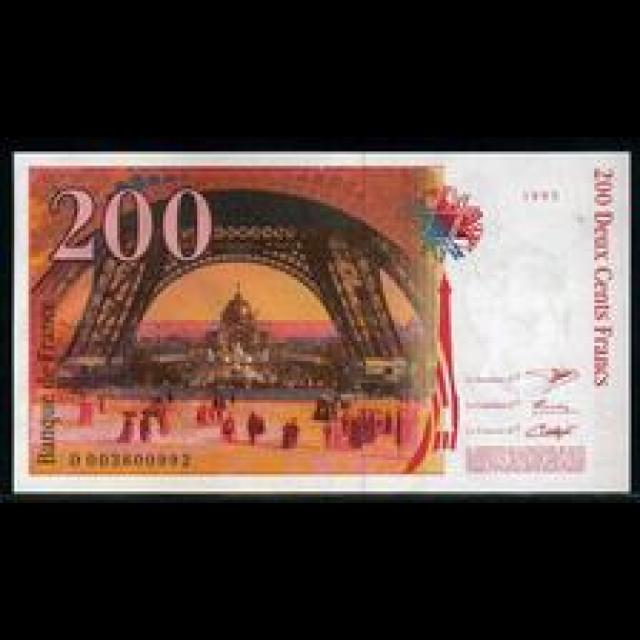banknote: (12, 149, 628, 491), (47, 183, 216, 270), (583, 160, 621, 208)
